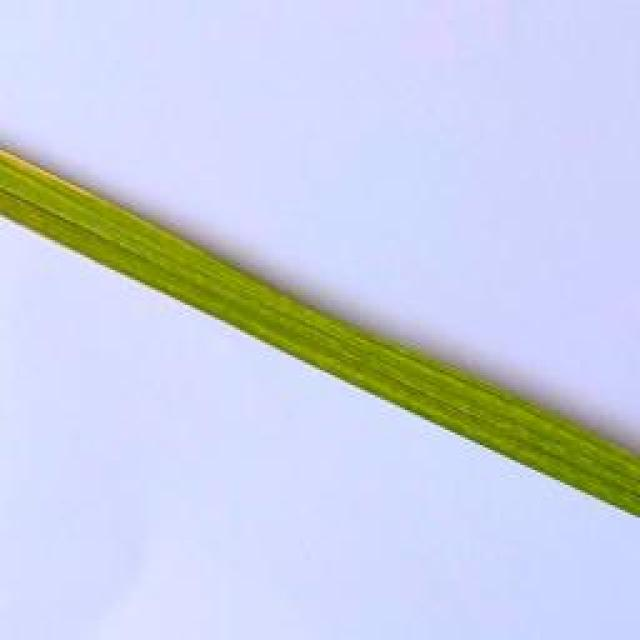Healthy-Plant: (129, 212, 640, 526)
